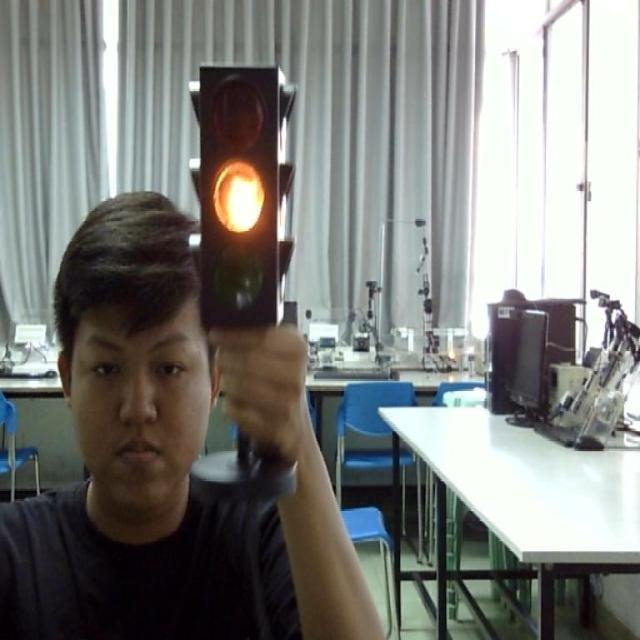yellow light: (207, 156, 270, 232)
